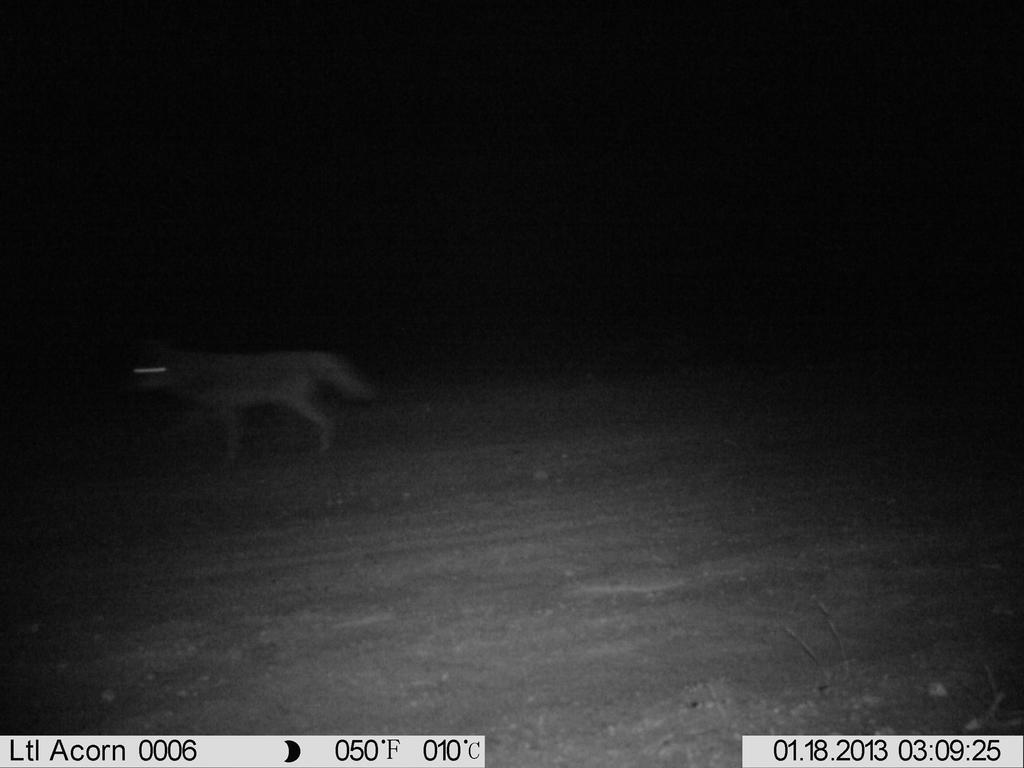coyote: (98, 306, 389, 473)
